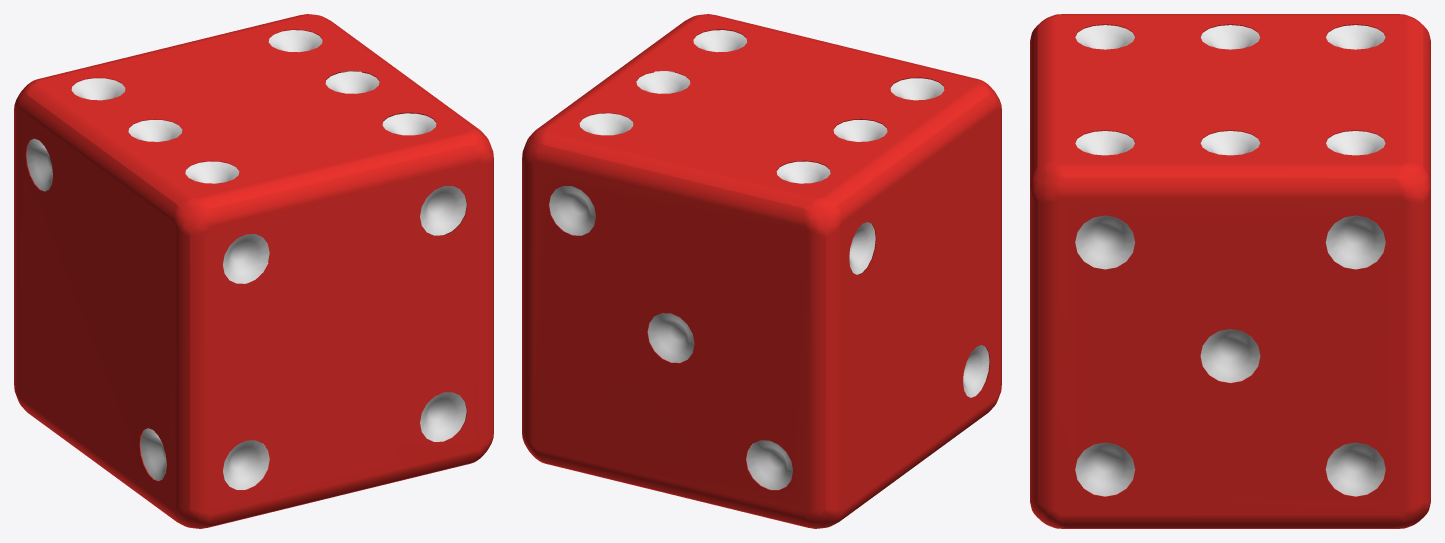
File: die.glb
The picture shows the model from 3 angles, left to right: view 1: azimuth 30°, elevation 25°; view 2: azimuth 150°, elevation 25°; view 3: azimuth 270°, elevation 25°; orthographic projection. The views are drawn at different scales.
Parts seen in each view (by area): view 1: DiceBody, DiceIndent.068, DiceIndent.067, DiceIndent.066, DiceIndent.065, DiceIndent.061, DiceIndent.060, DiceIndent.052, DiceIndent.053, DiceIndent.051, DiceIndent.000, DiceIndent.049 (+1 smaller); view 2: DiceBody, DiceIndent.064, DiceIndent.062, DiceIndent.063, DiceIndent.061, DiceIndent.060, DiceIndent.000, DiceIndent.049, DiceIndent.051, DiceIndent.052, DiceIndent.053, DiceIndent.050; view 3: DiceBody, DiceIndent.055, DiceIndent.056, DiceIndent.058, DiceIndent.059, DiceIndent.057, DiceIndent.049, DiceIndent.050, DiceIndent.053, DiceIndent.000, DiceIndent.052, DiceIndent.051.
Boxes of the visible parts, x1=… form: DiceBody: x1=14, y1=14, x2=493, y2=528; DiceIndent.068: x1=420, y1=392, x2=466, y2=441; DiceIndent.067: x1=223, y1=440, x2=269, y2=489; DiceIndent.066: x1=420, y1=186, x2=466, y2=235; DiceIndent.065: x1=223, y1=234, x2=269, y2=283; DiceIndent.061: x1=140, y1=428, x2=166, y2=480; DiceIndent.060: x1=26, y1=138, x2=52, y2=191; DiceIndent.052: x1=185, y1=161, x2=239, y2=183; DiceIndent.053: x1=382, y1=113, x2=436, y2=135; DiceIndent.051: x1=325, y1=71, x2=379, y2=93; DiceIndent.000: x1=71, y1=78, x2=125, y2=100; DiceIndent.049: x1=268, y1=30, x2=322, y2=52; DiceBody: x1=522, y1=14, x2=1001, y2=528; DiceIndent.064: x1=746, y1=440, x2=792, y2=489; DiceIndent.062: x1=549, y1=186, x2=595, y2=235; DiceIndent.063: x1=647, y1=313, x2=694, y2=362; DiceIndent.061: x1=963, y1=345, x2=989, y2=397; DiceIndent.060: x1=849, y1=222, x2=875, y2=274; DiceIndent.000: x1=776, y1=161, x2=830, y2=183; DiceIndent.049: x1=579, y1=113, x2=633, y2=135; DiceIndent.051: x1=636, y1=71, x2=690, y2=93; DiceIndent.052: x1=890, y1=78, x2=944, y2=100; DiceIndent.053: x1=693, y1=30, x2=747, y2=52; DiceIndent.050: x1=833, y1=120, x2=887, y2=141; DiceBody: x1=1030, y1=14, x2=1430, y2=528; DiceIndent.055: x1=1075, y1=215, x2=1135, y2=269; DiceIndent.056: x1=1325, y1=215, x2=1385, y2=269; DiceIndent.058: x1=1075, y1=442, x2=1135, y2=496; DiceIndent.059: x1=1325, y1=442, x2=1385, y2=496; DiceIndent.057: x1=1200, y1=329, x2=1260, y2=382; DiceIndent.049: x1=1326, y1=131, x2=1385, y2=155; DiceIndent.050: x1=1200, y1=25, x2=1260, y2=49; DiceIndent.053: x1=1075, y1=131, x2=1134, y2=155; DiceIndent.000: x1=1326, y1=25, x2=1385, y2=49; DiceIndent.052: x1=1075, y1=25, x2=1134, y2=49; DiceIndent.051: x1=1200, y1=131, x2=1260, y2=155.
Bounding box in the file's own units: 4 × 4 × 4.
